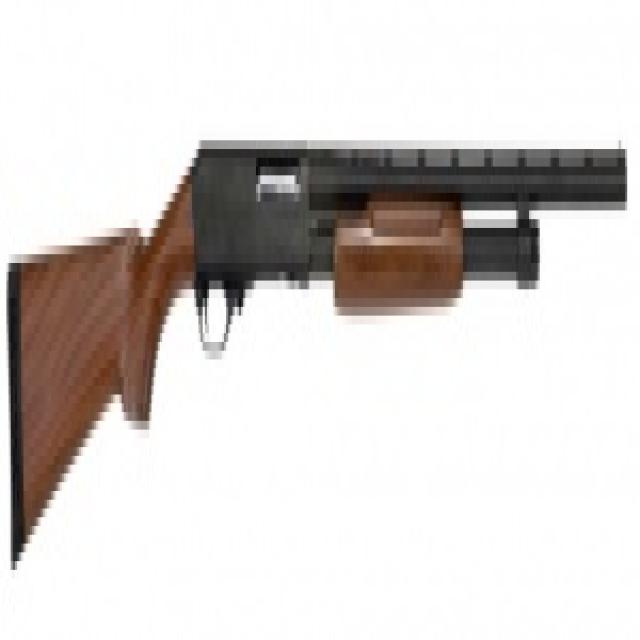rifle: (2, 119, 634, 591)
